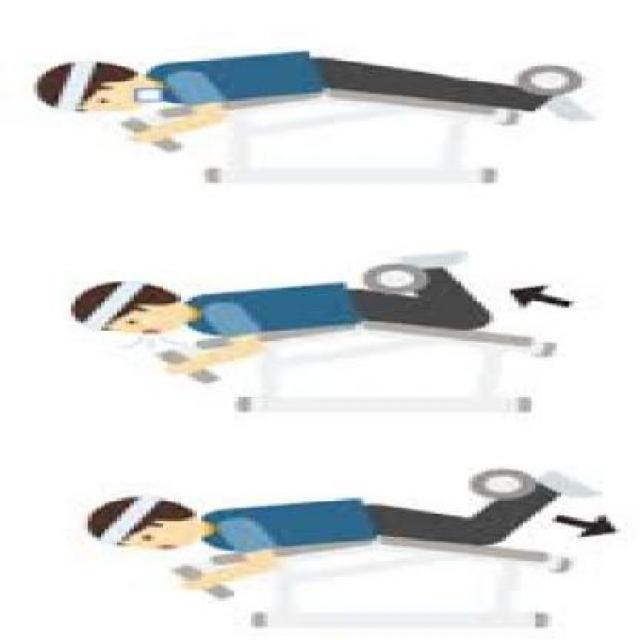reg curl machine: (72, 246, 640, 423), (89, 455, 640, 634), (42, 41, 636, 190)
